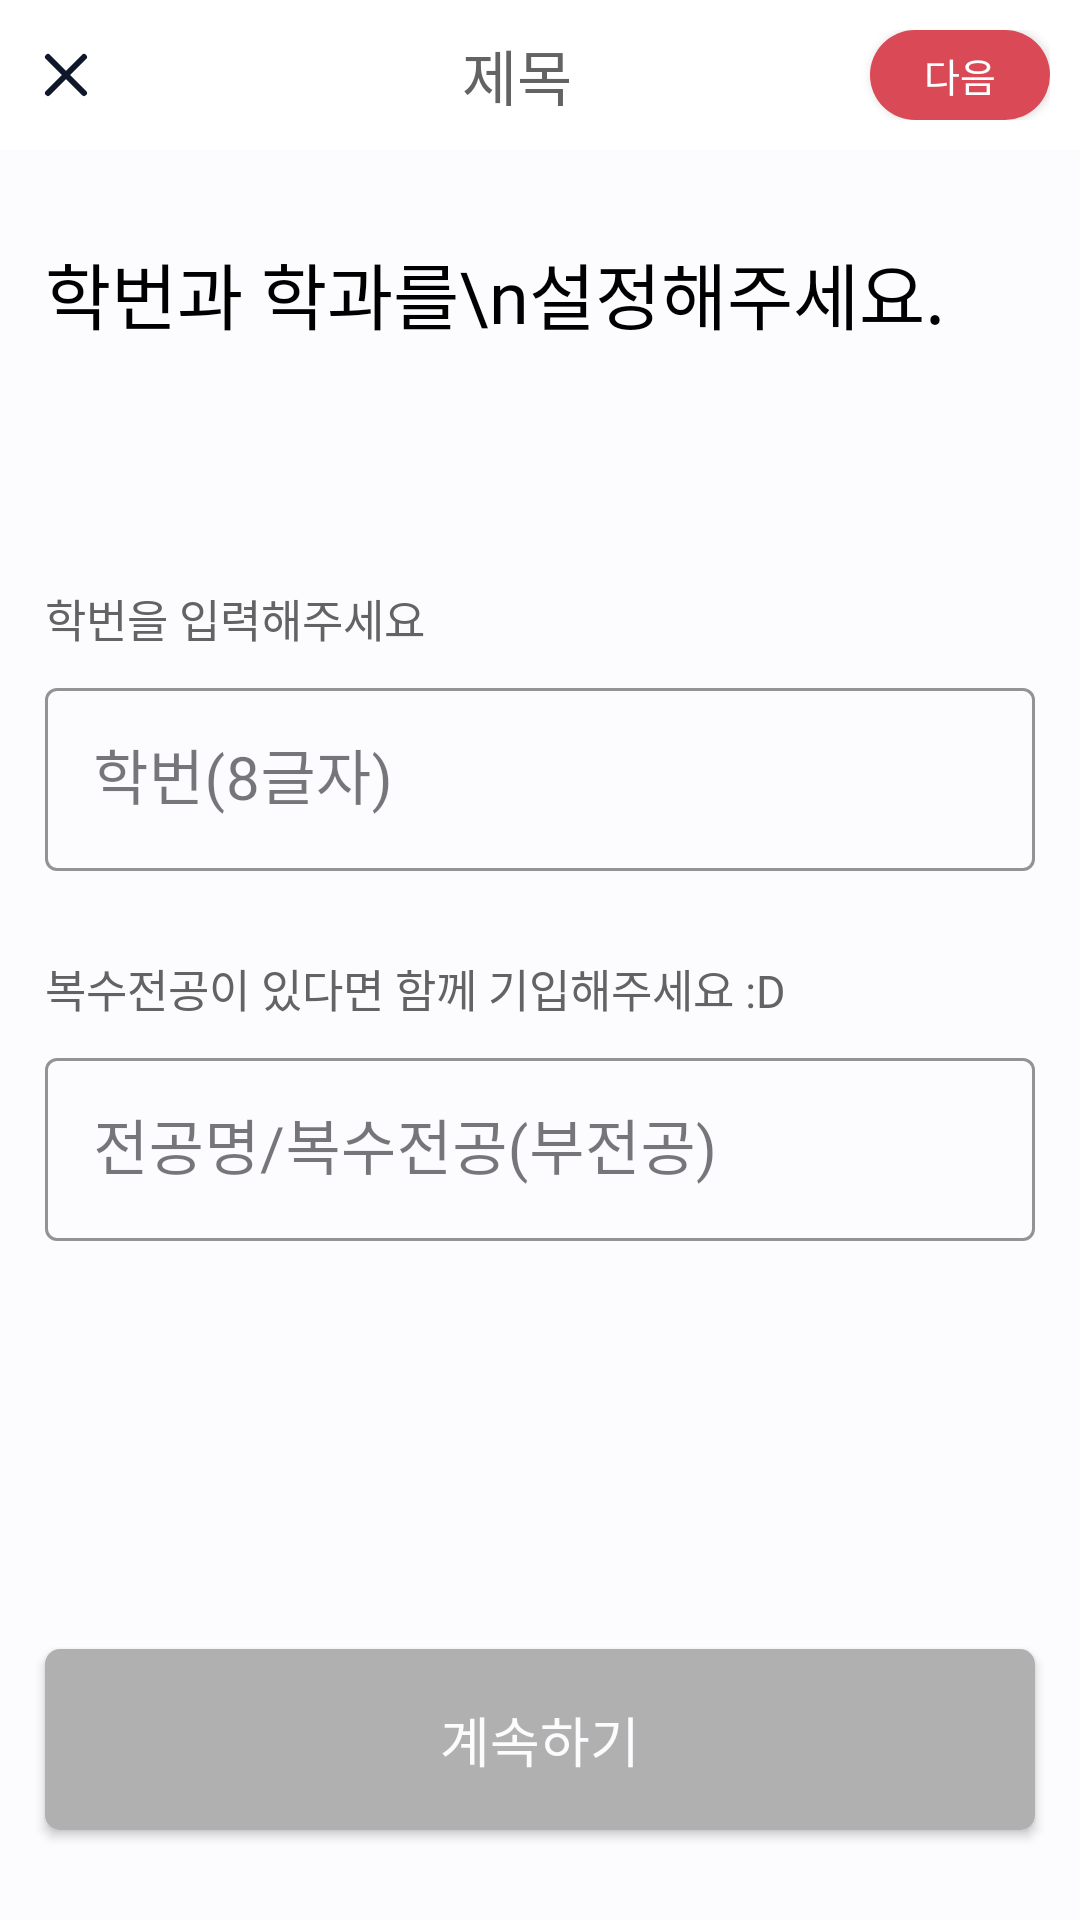

Screen size 1080 x 1920. Icon name, then its center in pixels as point (x, y):
delete: point (66, 74)
